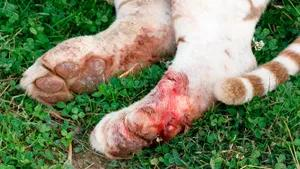bleeding: (151, 81, 187, 139)
